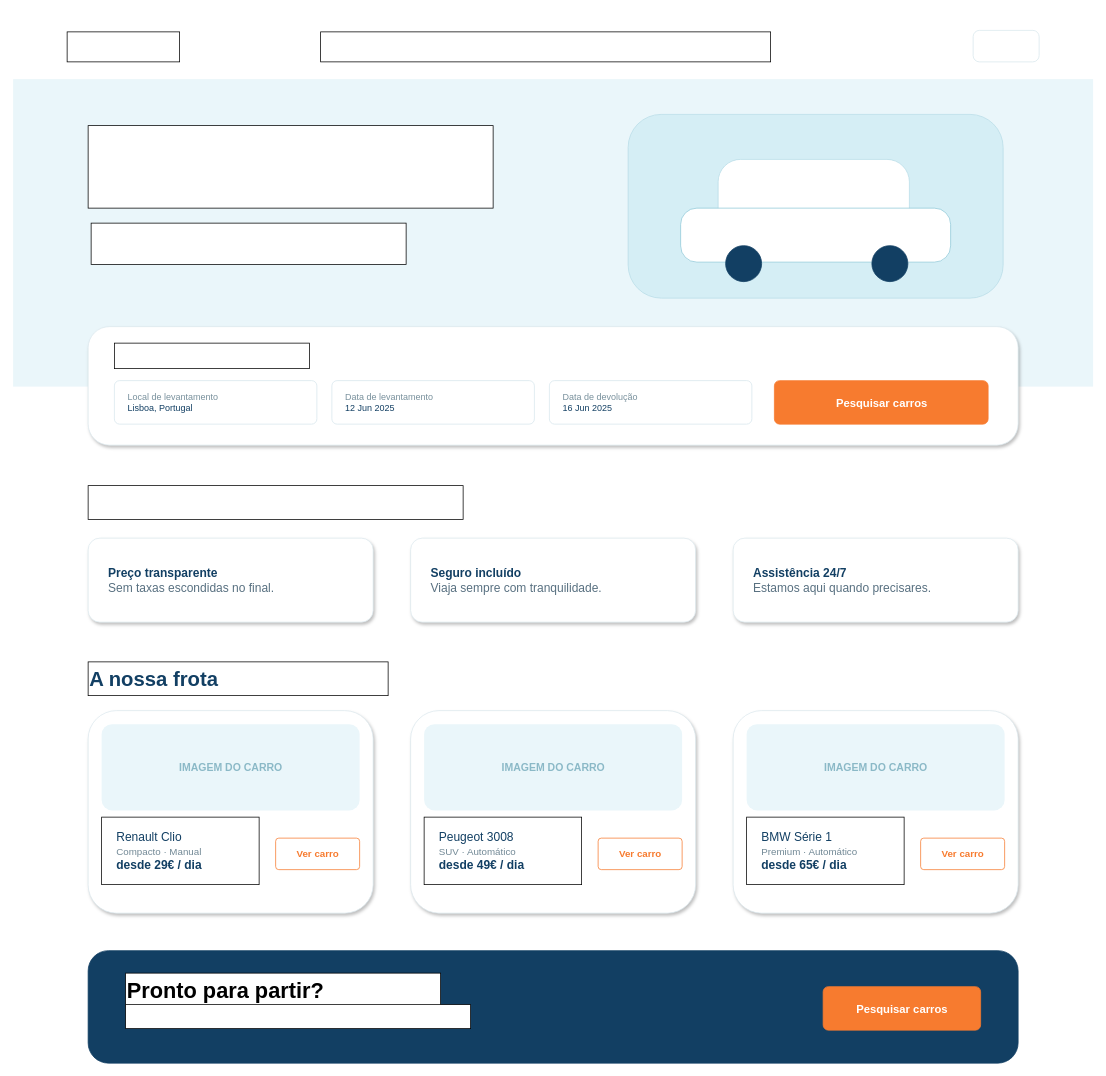
This 1106x1076 diagram has some shape labels left out. The centre of each missing label's shape, as x and y in pixels:
Aluga o teu carro. Simples e transparente.: point (290, 166)
CARRO: point (815, 234)
Encontra o carro perfeito para a tua próxima viagem.: point (298, 1016)
Encontrar um carro: point (211, 355)
Entrar: point (1005, 46)
Escolhe o carro ideal para a tua viagem, sem complicações e com tudo incluído.: point (248, 243)
Início | Frota | Locais | Como funciona | Apoio: point (545, 46)
RentGO: point (123, 46)
Tudo incluído, sem surpresas: point (275, 502)
